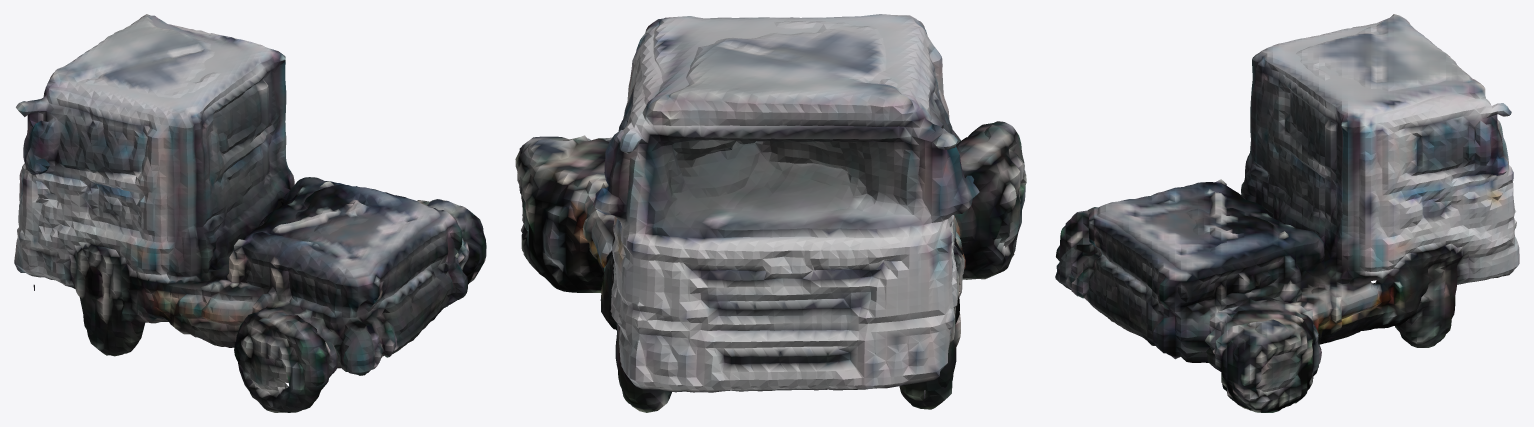
3 views of the same model, side by side, from view 1: azimuth 30°, elevation 25°; view 2: azimuth 150°, elevation 25°; view 3: azimuth 270°, elevation 25° (orthographic). The views are drawn at different scales.
Parts seen in each view (by area): view 1: world; view 2: world; view 3: world.
Part boxes in pixels (box(x1,y1,x2,y2)): world: box(14, 14, 486, 412); world: box(515, 14, 1026, 412); world: box(1055, 14, 1519, 412).
Size of the model in its own units: 1.05 by 0.6569 by 1.1.
